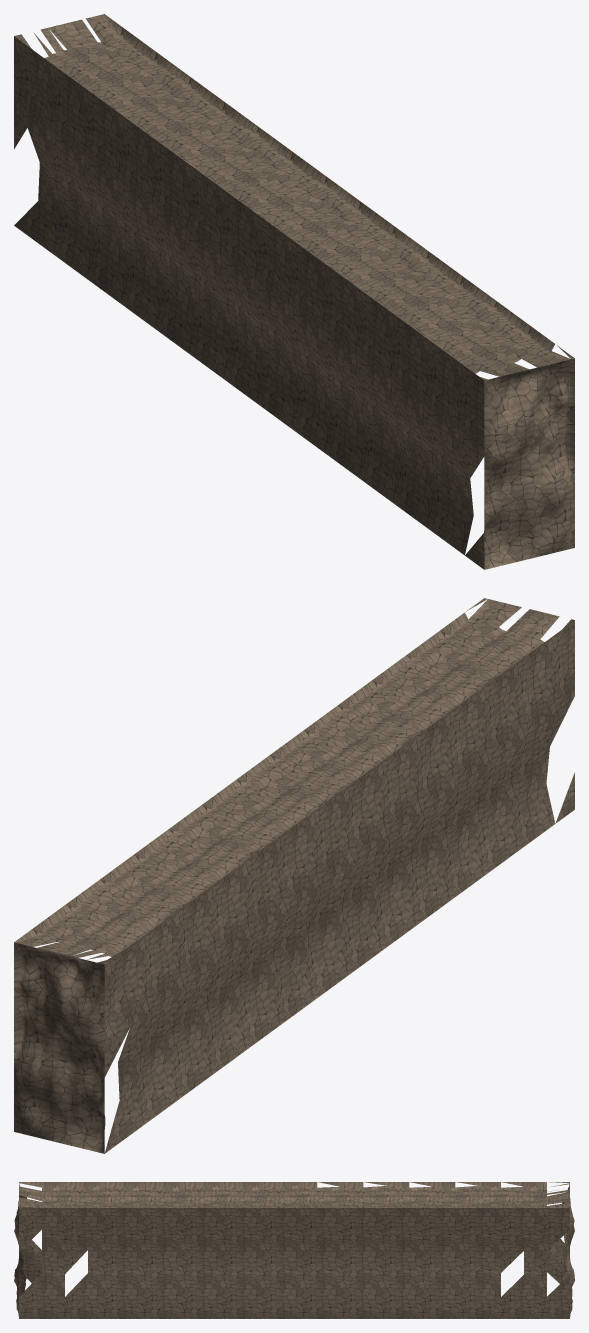
The model's file is cliff_ew.glb.
3 views of the same model, one above another, from view 1: azimuth 30°, elevation 25°; view 2: azimuth 150°, elevation 25°; view 3: azimuth 270°, elevation 25° (orthographic). The views are drawn at different scales.
Parts seen in each view (by area): view 1: cliff_ew; view 2: cliff_ew; view 3: cliff_ew.
Part boxes in pixels (box(x1,y1,x2,y2)): cliff_ew: box(14, 14, 574, 569); cliff_ew: box(14, 598, 574, 1153); cliff_ew: box(14, 1182, 574, 1318).
Size of the model in its own units: 4.37 by 8 by 36.65.
Materials: 1 (1 with a texture image).
